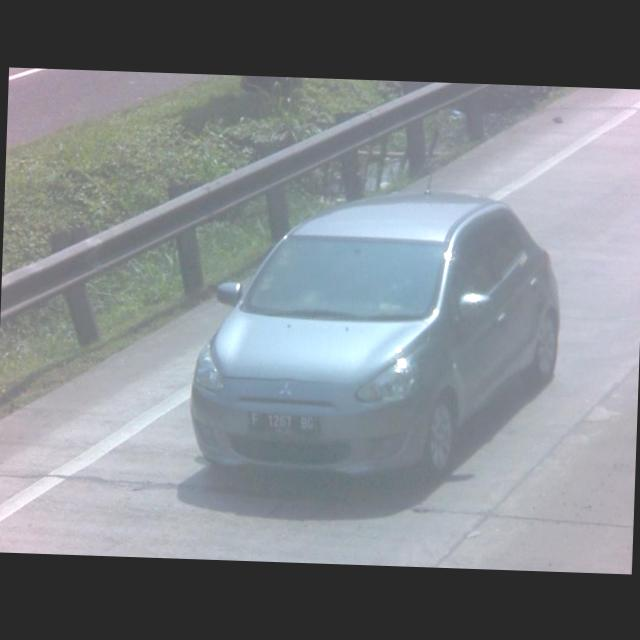plate: (244, 406, 324, 438)
